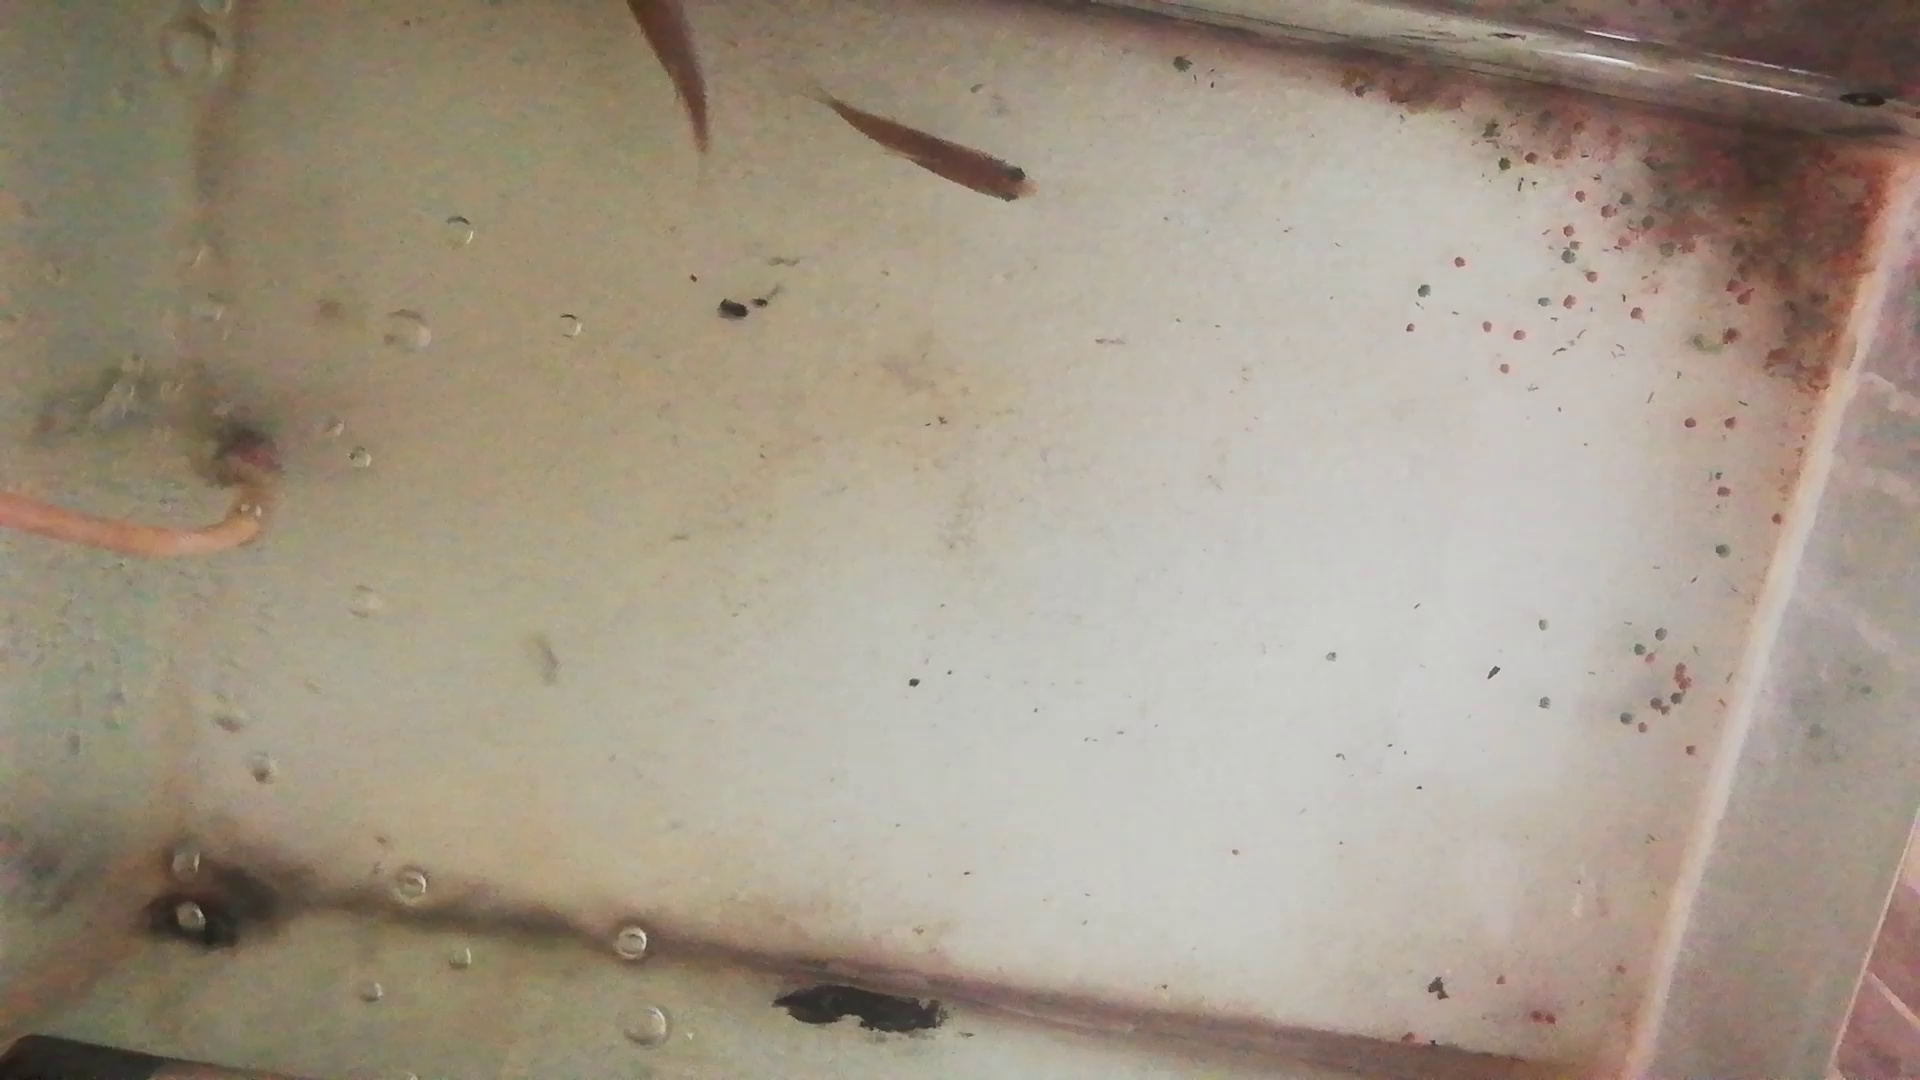fish: (828, 98, 1042, 204), (626, 1, 715, 156)
